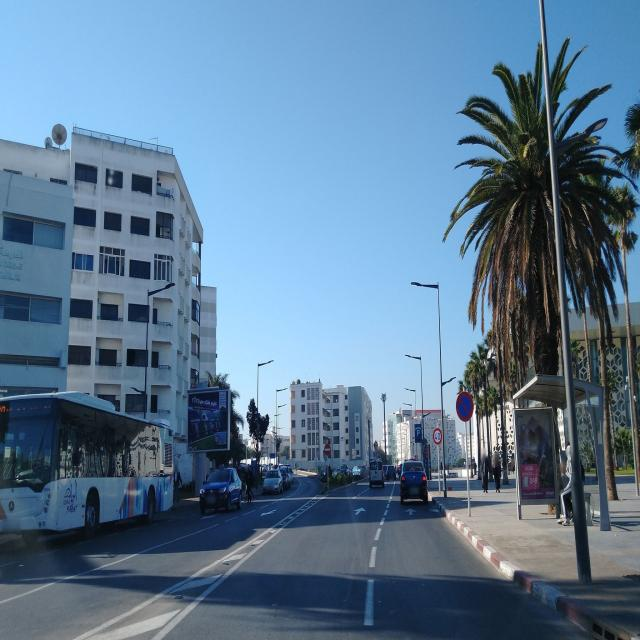forb_stopping: (455, 391, 474, 423)
